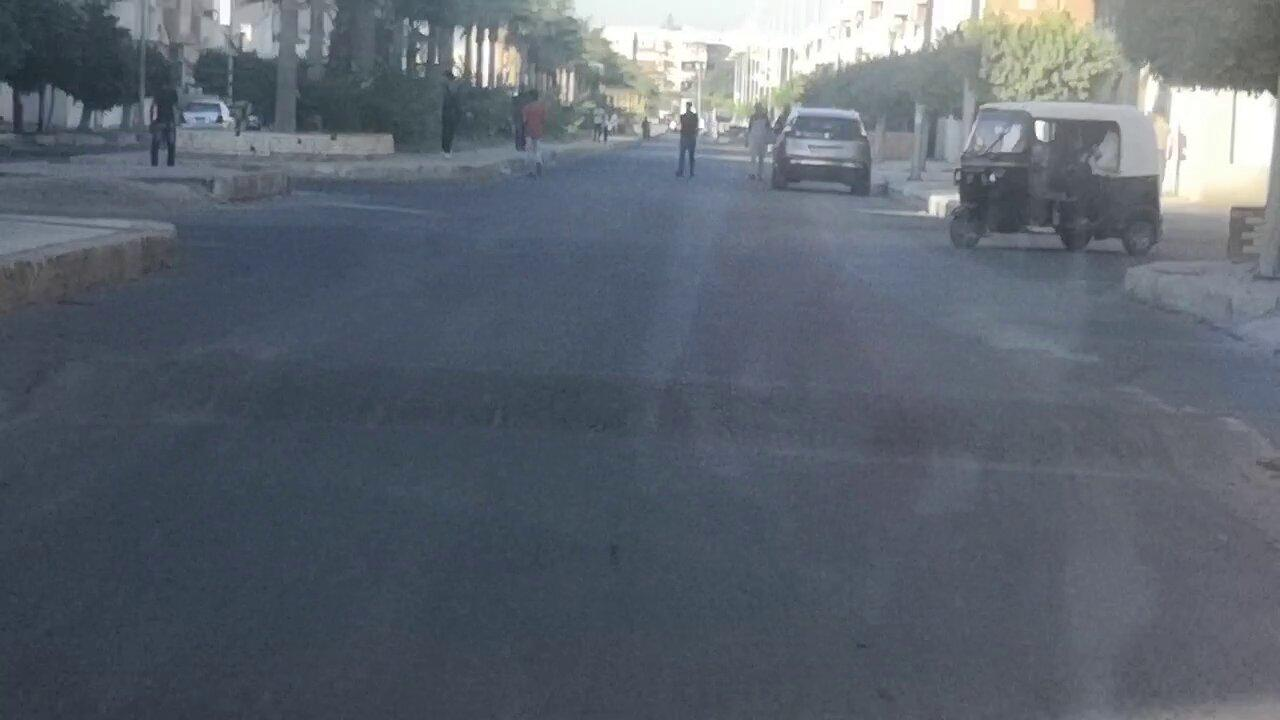Bump: (43, 342, 1225, 490)
